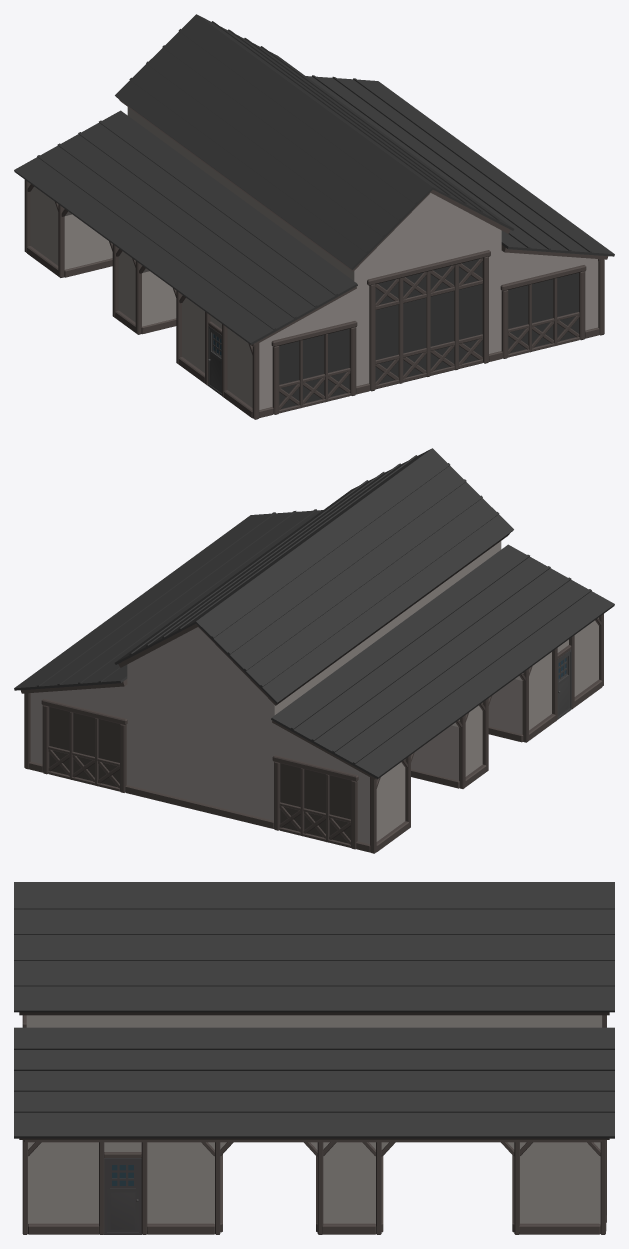
The model's file is farmbuilding_01.glb.
3 renders of one model, top to bottom at view 1: azimuth 30°, elevation 25°; view 2: azimuth 150°, elevation 25°; view 3: azimuth 270°, elevation 25°, orthographic. The views are drawn at different scales.
Parts seen in each view (by area): view 1: farmbuilding_01; view 2: farmbuilding_01; view 3: farmbuilding_01.
Boxes of the visible parts, x1,y1,x2,y2 form: farmbuilding_01: (14,14,614,419); farmbuilding_01: (14,448,614,853); farmbuilding_01: (14,882,614,1234).
Bounding box in the file's own units: 14.84 × 7.51 × 16.7.
1 material, 1 textured.
